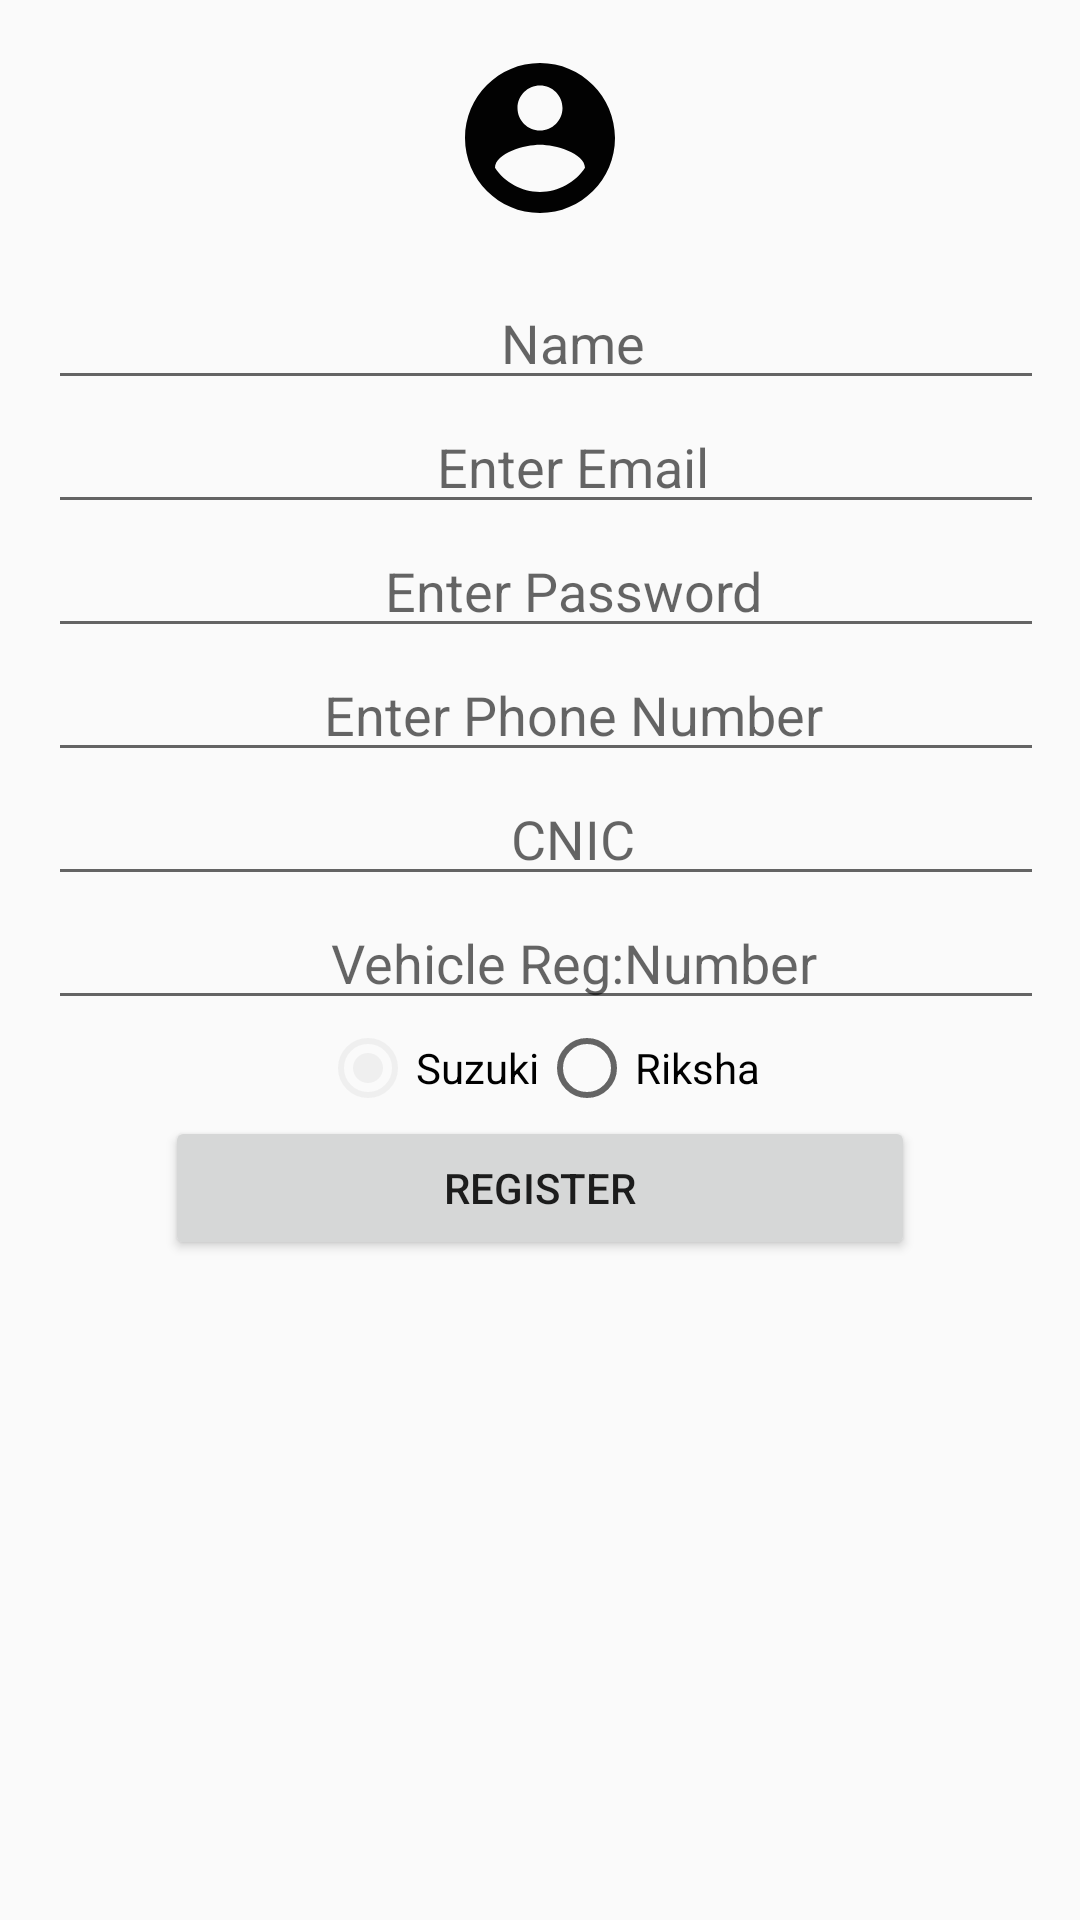

Where to tap for icons on this 1080×1920 app screen, as point (x, y):
Set Profile Piture: point (540, 138)
